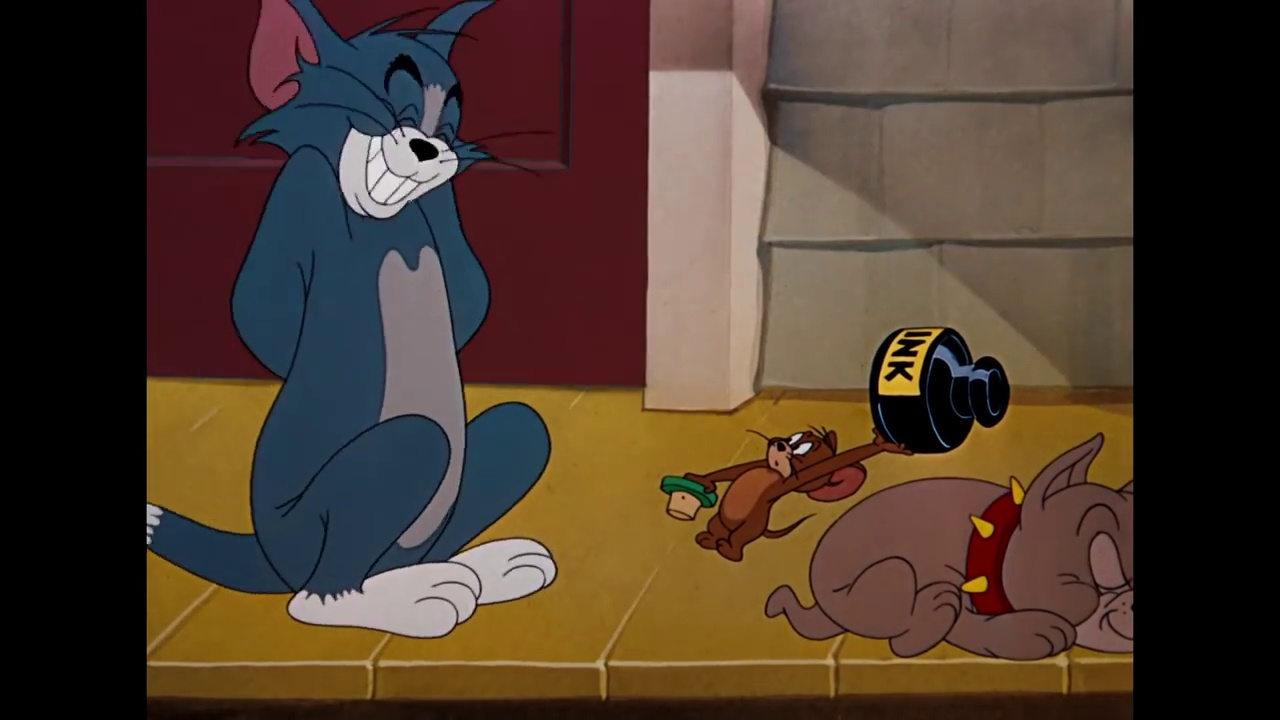tom: (225, 2, 497, 220)
